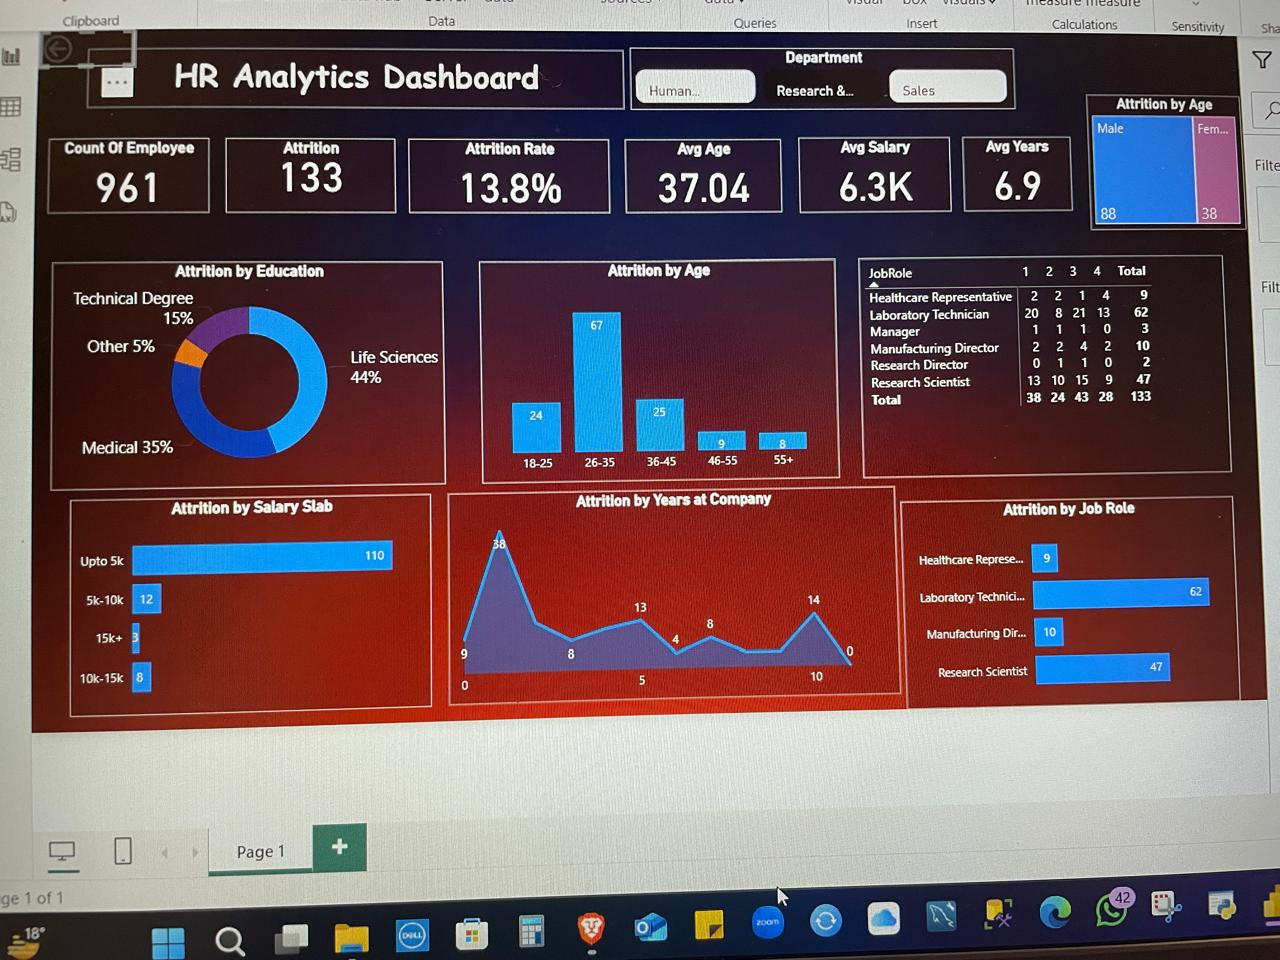

The page's visual inventory and layout, read from the dashboard file:
{"tool":"powerbi","page":{"name":"Page 1","canvas":[1280,720],"ordinal":0},"visuals":[{"type":"card","title":"Count Of Employee","fields":{"Values":["CountNonNull(HR_Analytics.EmployeeCount)"]},"box":[13.3,115.8,162.9,78.4],"z":0},{"type":"textbox","box":[52.1,20.6,554.4,63.1],"z":1000},{"type":"card","title":"Attrition Rate","fields":{"Values":["HR_Analytics.Attrition Rate"]},"box":[380,115.8,209.9,78.4],"z":2000},{"type":"card","title":"Avg Age","fields":{"Values":["Avg(HR_Analytics.Age)"]},"box":[606.8,115.8,166.5,78.4],"z":3000},{"type":"card","title":"Attrition ","fields":{"Values":["Sum(HR_Analytics.AttritionCount)"]},"box":[193,115.8,172.5,78.4],"z":4000},{"type":"actionButton","box":[0,0,100,40],"z":5000},{"type":"card","title":"Avg Salary","fields":{"Values":["Avg(HR_Analytics.MonthlyIncome)"]},"box":[792.2,114,163.6,80.9],"z":6000},{"type":"card","title":"Avg Years","fields":{"Values":["Avg(HR_Analytics.YearsAtCompany)"]},"box":[968.7,114,117.6,80.9],"z":7000},{"type":"donutChart","title":"Attrition by Education","fields":{"Category":["HR_Analytics.EducationField"],"Y":["Sum(HR_Analytics.AttritionCount)"]},"box":[19.7,244.2,394.6,233.1],"z":8000},{"type":"columnChart","title":"Attrition by Age","fields":{"Category":["HR_Analytics.AgeGroup"],"Y":["Sum(HR_Analytics.AttritionCount)"]},"box":[451.7,244.2,376.4,232.5],"z":9000},{"type":"pivotTable","fields":{"Rows":["HR_Analytics.JobRole"],"Values":["Sum(HR_Analytics.AttritionCount)"],"Columns":["HR_Analytics.JobSatisfaction"]},"box":[852.9,244.5,397,233.4],"z":10000},{"type":"barChart","title":"Attrition by Salary Slab","fields":{"Category":["HR_Analytics.SalarySlab"],"Y":["Sum(HR_Analytics.AttritionCount)"]},"box":[38.5,486.8,359.7,217.5],"z":11000},{"type":"areaChart","title":"Attrition by Years at Company","fields":{"Category":["HR_Analytics.YearsAtCompany"],"Y":["Sum(HR_Analytics.AttritionCount)"]},"box":[415.4,487.1,470.5,216.9],"z":12000},{"type":"barChart","title":"Attrition by Job Role","fields":{"Y":["Sum(HR_Analytics.AttritionCount)"],"Category":["HR_Analytics.JobRole"]},"box":[891.5,503.6,358.4,216.9],"z":13000},{"type":"treemap","title":"Attrition by Age","fields":{"Group":["HR_Analytics.Gender"],"Values":["Sum(HR_Analytics.AttritionCount)"]},"box":[1106.5,68,172.8,147],"z":14000},{"type":"advancedSlicerVisual","fields":{"Values":["HR_Analytics.Department"]},"box":[612.8,17.6,414.4,66.1],"z":15000}]}

Visuals, with their boxes in screenshot pixels (x1, y1, x2, y2):
"Count Of Employee" card: 59/137/214/211
textbox: 96/46/624/106
"Attrition Rate" card: 408/137/608/211
"Avg Age" card: 624/137/782/211
"Attrition " card: 230/137/394/211
actionButton: 47/27/142/65
"Avg Salary" card: 800/135/956/212
"Avg Years" card: 968/135/1080/212
"Attrition by Education" donutChart: 65/259/441/481
"Attrition by Age" columnChart: 476/259/834/480
pivotTable - HR_Analytics.JobRole x Sum(HR_Analytics.AttritionCount): 858/259/1236/481
"Attrition by Salary Slab" barChart: 83/490/425/697
"Attrition by Years at Company" areaChart: 442/490/889/696
"Attrition by Job Role" barChart: 895/506/1236/712
"Attrition by Age" treemap: 1099/91/1264/231
advancedSlicerVisual - HR_Analytics.Department: 630/43/1024/106
